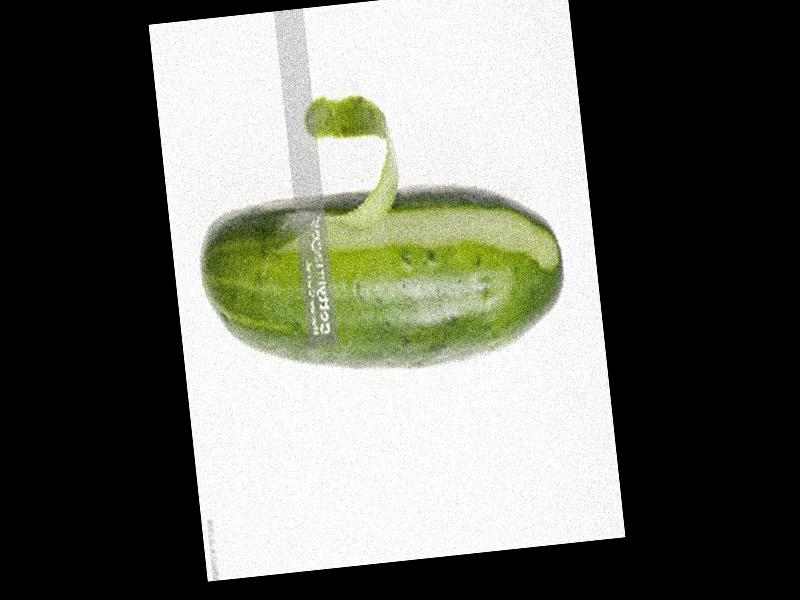Cucumber: (193, 167, 573, 387)
